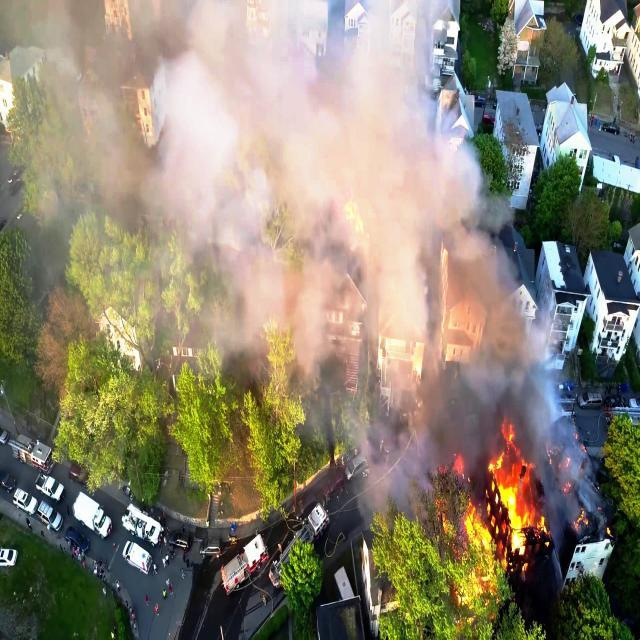Fire: (492, 443, 547, 544)
